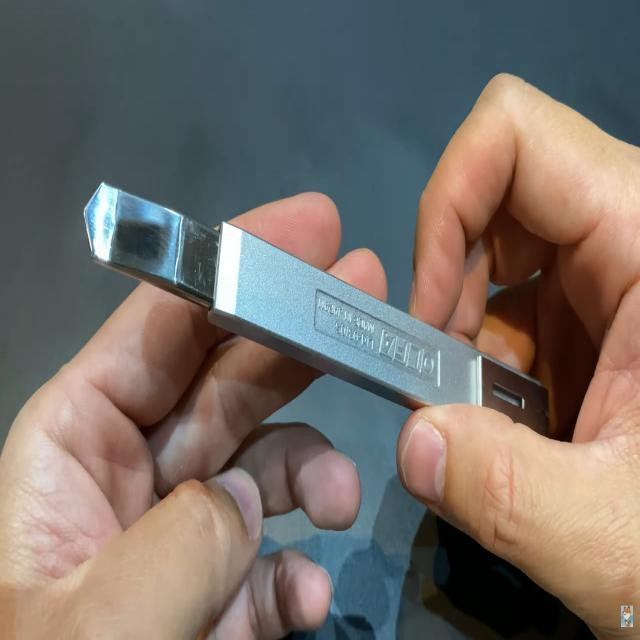cutter: (0, 80, 640, 580)
